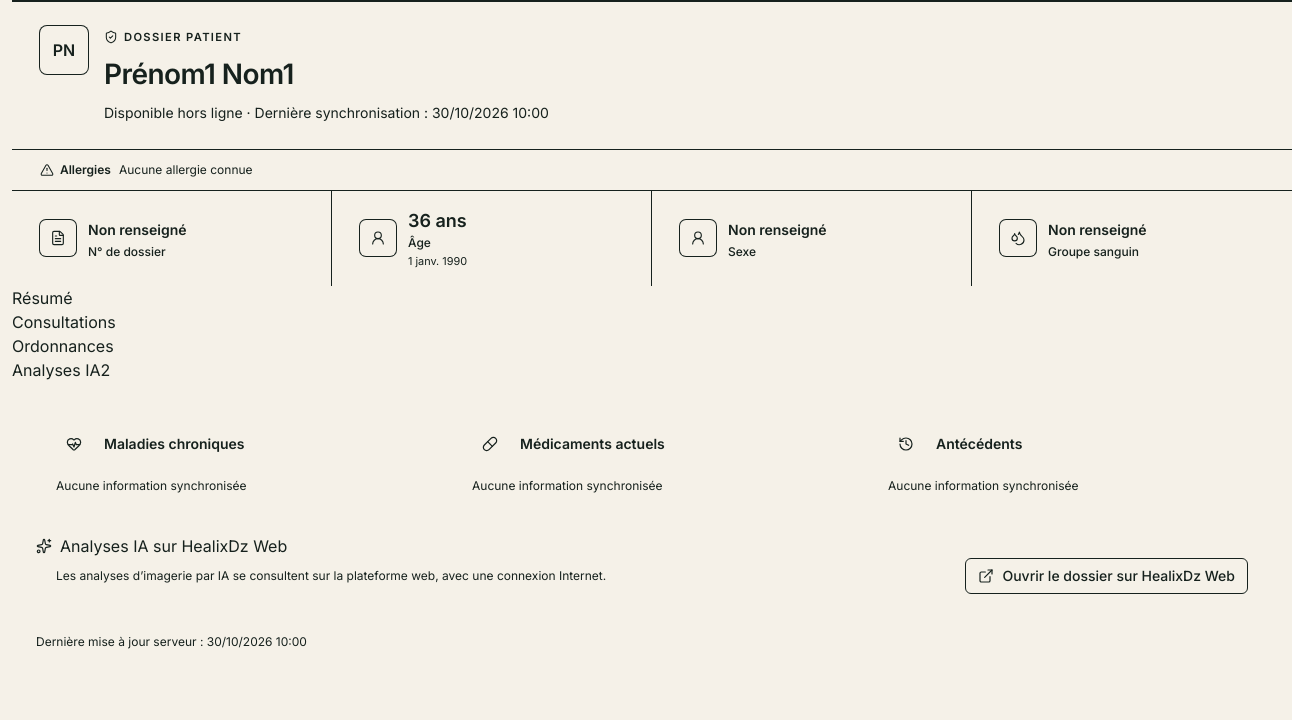
Test: the Analyses IA tab of a record › counts the results in the tab and lists them, asking only for this patient
This screenshot has width=1292, height=720.
Expected: the text "2" is shown, [100,360,110,380]
Click the button "Analyses IA2" at (61, 370), box [12,358,110,382]
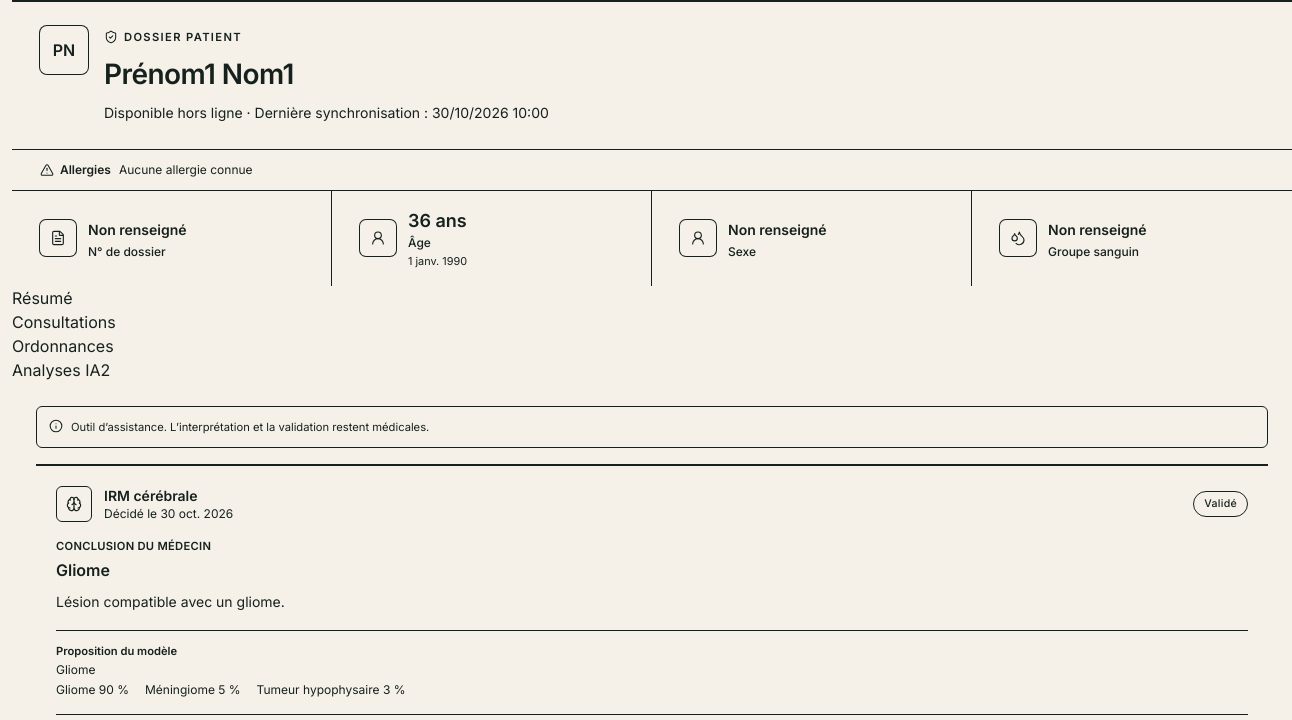
Expected: the text "Outil d’assistance. L’interprétation et la validation restent médicales." is shown, [71,420,429,434]
